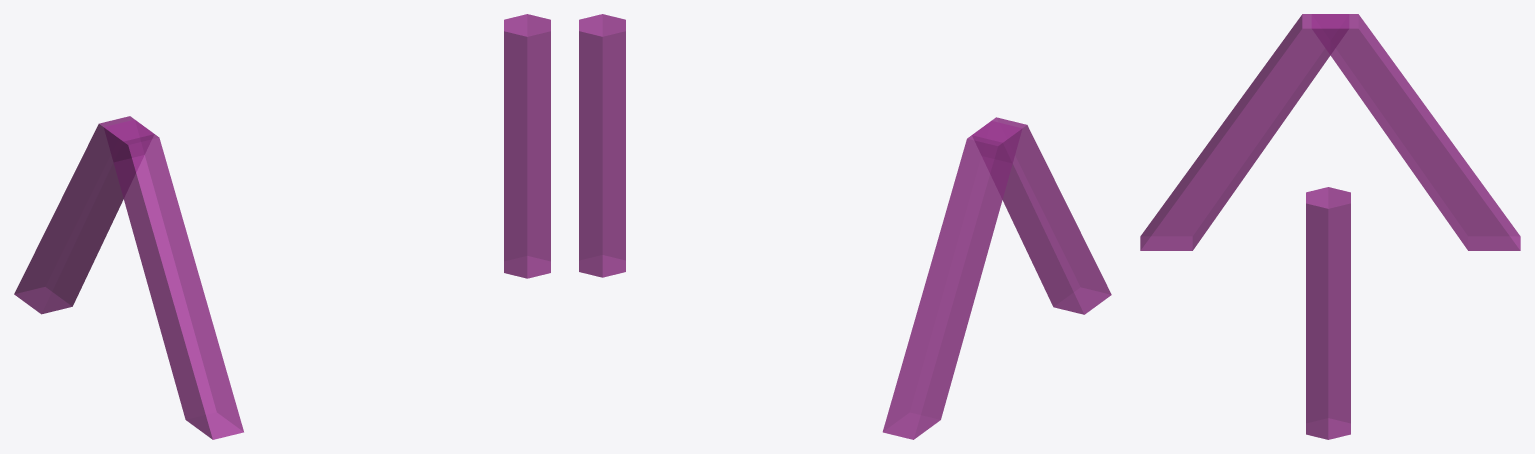
Rendered from SM_Prop_Drive_Wheel_01_Collision.fbx.
3 views of the same model, side by side, from view 1: azimuth 30°, elevation 25°; view 2: azimuth 150°, elevation 25°; view 3: azimuth 270°, elevation 25° (orthographic). The views are drawn at different scales.
Parts seen in each view (by area): view 1: SM_Prop_Drive_Wheel_01_Collision; view 2: SM_Prop_Drive_Wheel_01_Collision; view 3: SM_Prop_Drive_Wheel_01_Collision.
Part boxes in pixels (x1,y1,x2,y2): SM_Prop_Drive_Wheel_01_Collision: [14, 14, 550, 439]; SM_Prop_Drive_Wheel_01_Collision: [579, 14, 1111, 439]; SM_Prop_Drive_Wheel_01_Collision: [1140, 14, 1520, 439].
Bounding box in the file's own units: 353 × 187 × 279.
